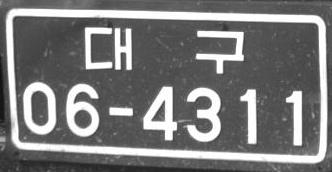0: (21, 79, 57, 136)
1: (279, 89, 313, 146), (235, 88, 269, 144)
3: (185, 86, 222, 142)
4: (142, 85, 176, 141)
6: (64, 83, 100, 137)
대구_D: (83, 25, 245, 75)
